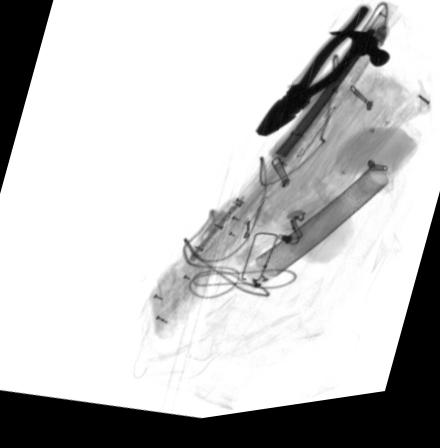Hammer: (267, 41, 390, 172)
Pliers: (253, 15, 375, 145)
